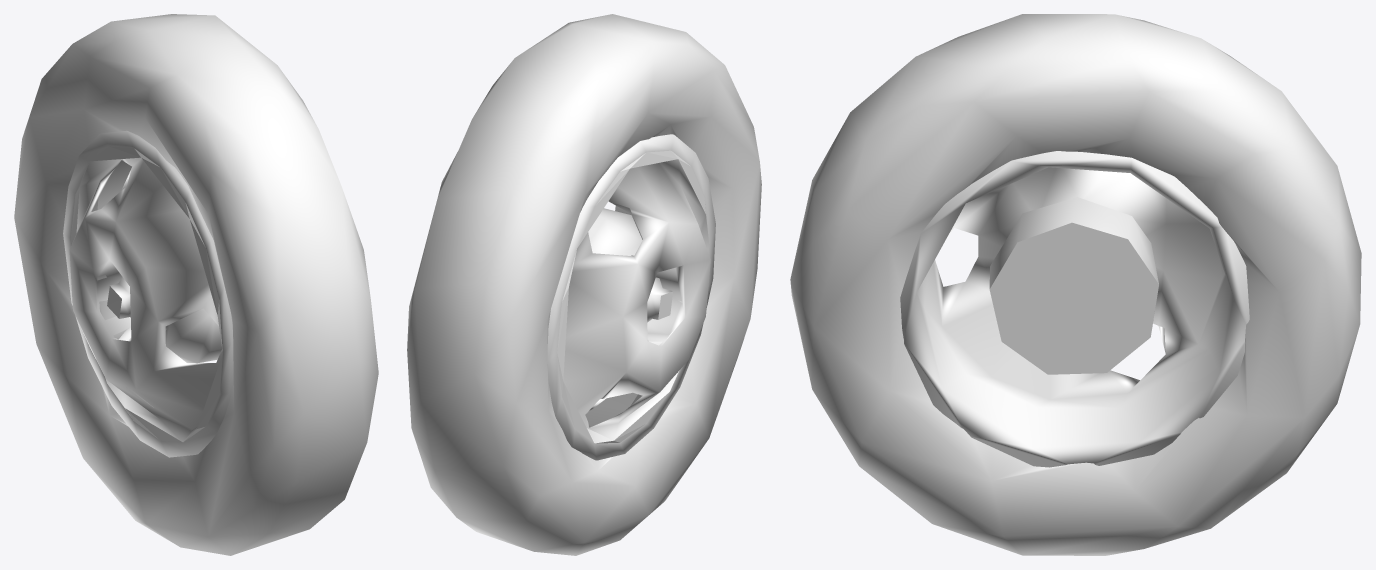
The picture shows the model from 3 angles, left to right: view 1: azimuth 30°, elevation 25°; view 2: azimuth 150°, elevation 25°; view 3: azimuth 270°, elevation 25°; orthographic projection. The views are drawn at different scales.
Size of the model in its own units: 0.3158 by 1.05 by 1.06.
1 material, 1 textured.
